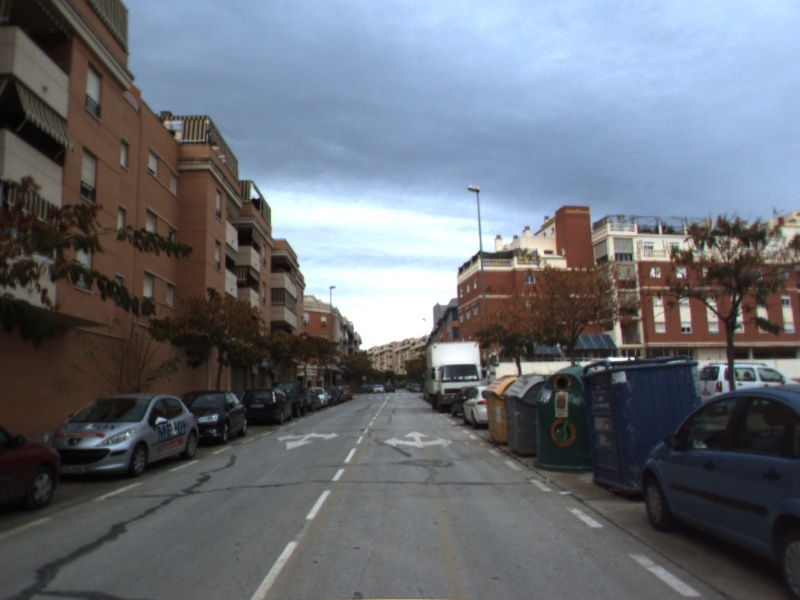STRAIGHT_LEFT_RIGHT: (382, 428, 455, 450)
